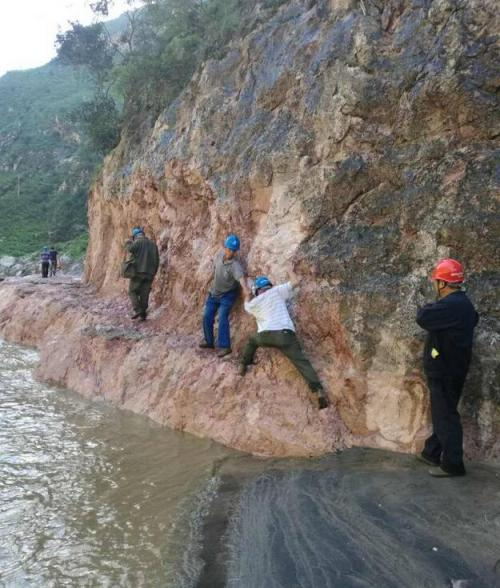helmet: (429, 256, 466, 293), (250, 274, 278, 301), (220, 232, 242, 262), (126, 222, 147, 243)
